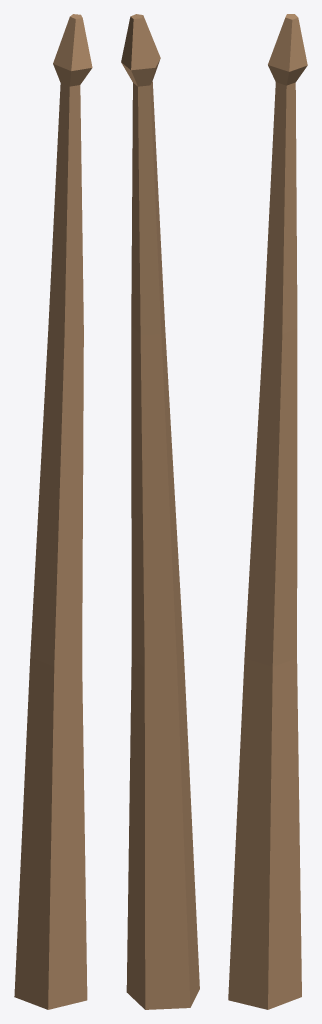
File: Palm_Tree_NoLeaves_m_01.fbx
3 views of the same model, side by side, from view 1: azimuth 30°, elevation 25°; view 2: azimuth 150°, elevation 25°; view 3: azimuth 330°, elevation 25° (orthographic).
Parts seen in each view (by area): view 1: Palm_Tree_NoLeaves_m_01; view 2: Palm_Tree_NoLeaves_m_01; view 3: Palm_Tree_NoLeaves_m_01.
Part boxes in pixels (x1,y1,x2,y2): Palm_Tree_NoLeaves_m_01: [14, 14, 92, 1009]; Palm_Tree_NoLeaves_m_01: [121, 14, 199, 1009]; Palm_Tree_NoLeaves_m_01: [228, 14, 307, 1009].
Size of the model in its own units: 44.95 by 586 by 38.21.
